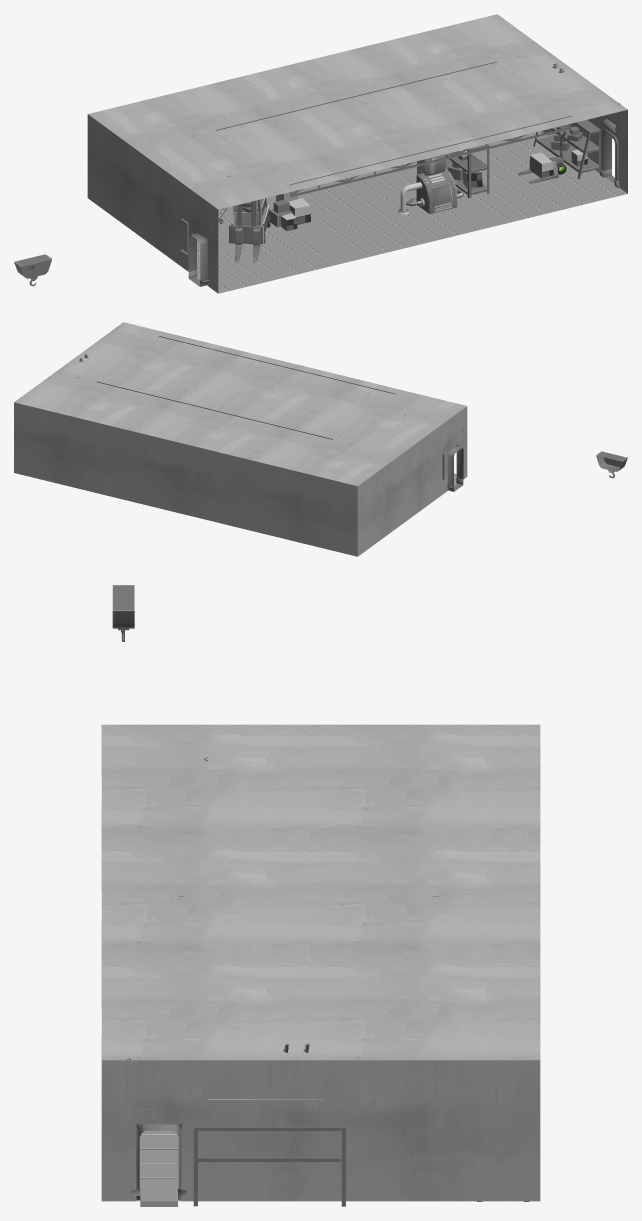
File: MHS_Storage_L2_R3_optimized.fbx
3 views of the same model, one above another, from view 1: azimuth 30°, elevation 25°; view 2: azimuth 150°, elevation 25°; view 3: azimuth 270°, elevation 25° (orthographic). The views are drawn at different scales.
Visible parts, largest first — view 1: lightmap0, lightmap1, lightmap-1, MHS_Storage_ani_02 1; view 2: lightmap0, lightmap1, lightmap-1, MHS_Storage_ani_02 1; view 3: lightmap0, lightmap1, MHS_Storage_ani_02 1.
Part boxes in pixels (x1,y1,x2,y2): lightmap0: (87,14,627,293); lightmap1: (181,56,620,282); lightmap-1: (188,133,614,286); MHS_Storage_ani_02 1: (14,254,51,286); lightmap0: (14,322,467,556); lightmap1: (77,327,464,487); lightmap-1: (447,446,463,491); MHS_Storage_ani_02 1: (596,451,627,478); lightmap0: (101,724,540,1201); lightmap1: (126,757,529,1206); MHS_Storage_ani_02 1: (112,585,134,641).
Bounding box in the file's own units: 44.61 × 6.35 × 16.51.
